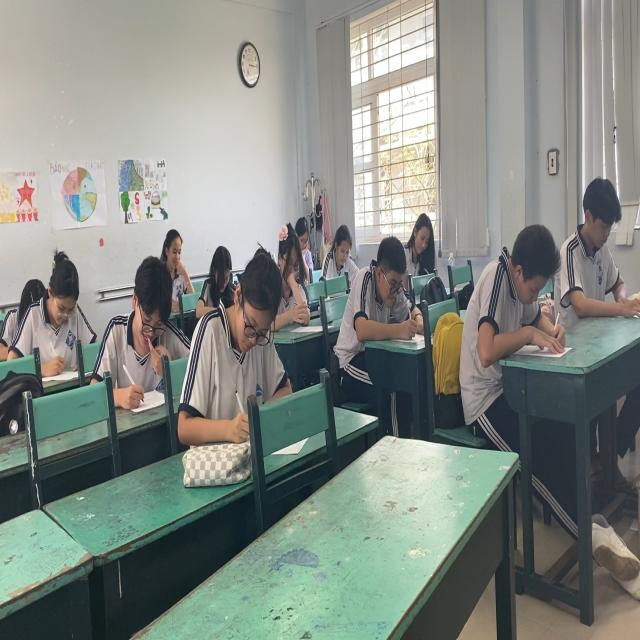not_cheating: (467, 220, 568, 356), (99, 252, 183, 414), (216, 241, 285, 438), (12, 224, 88, 366), (566, 179, 630, 324), (358, 234, 418, 331), (267, 224, 307, 331), (405, 196, 438, 272), (321, 220, 360, 279), (160, 218, 191, 292), (200, 238, 233, 303)
